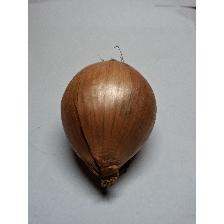Zwiebel: (61, 46, 158, 188)
